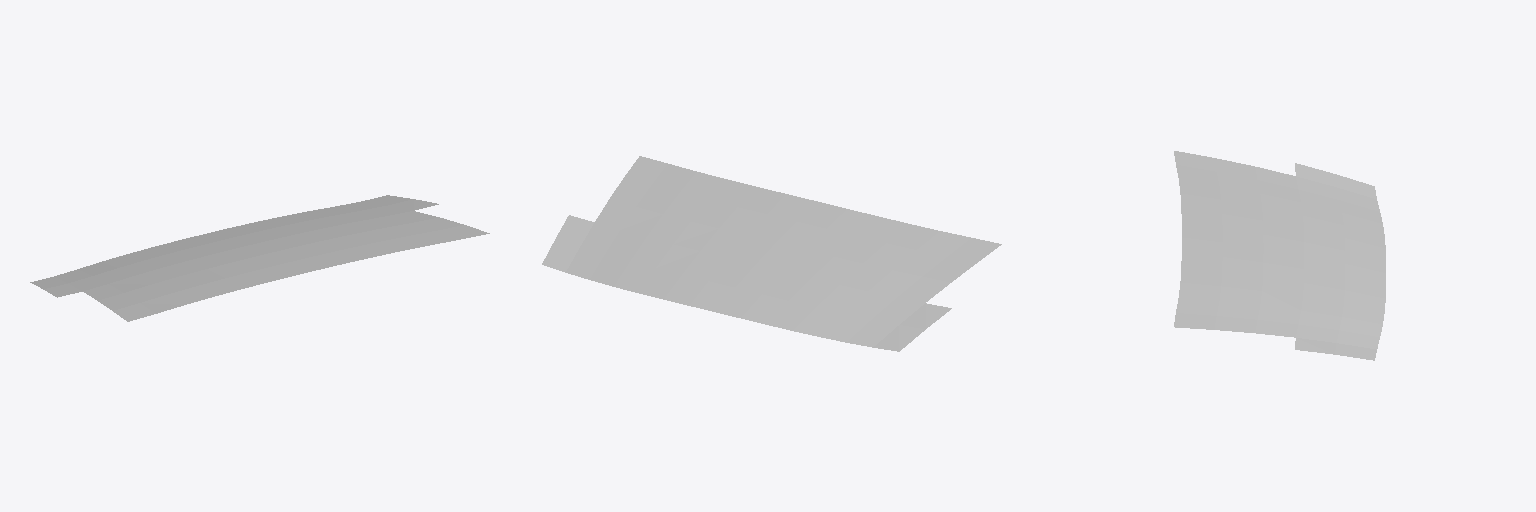
File: cofre.obj
3 views of the same model, side by side, from view 1: azimuth 30°, elevation 25°; view 2: azimuth 150°, elevation 25°; view 3: azimuth 270°, elevation 25° (orthographic).
Visible parts, largest first — view 1: 10604_slot_car_red_SG_v1_iterations-2.008; view 2: 10604_slot_car_red_SG_v1_iterations-2.008; view 3: 10604_slot_car_red_SG_v1_iterations-2.008.
Boxes of the visible parts, <box> form: 10604_slot_car_red_SG_v1_iterations-2.008: <box>30,195,489,321</box>; 10604_slot_car_red_SG_v1_iterations-2.008: <box>542,156,1001,351</box>; 10604_slot_car_red_SG_v1_iterations-2.008: <box>1174,151,1385,360</box>.
Bounding box in the file's own units: 1.11 × 0.1038 × 0.5344.